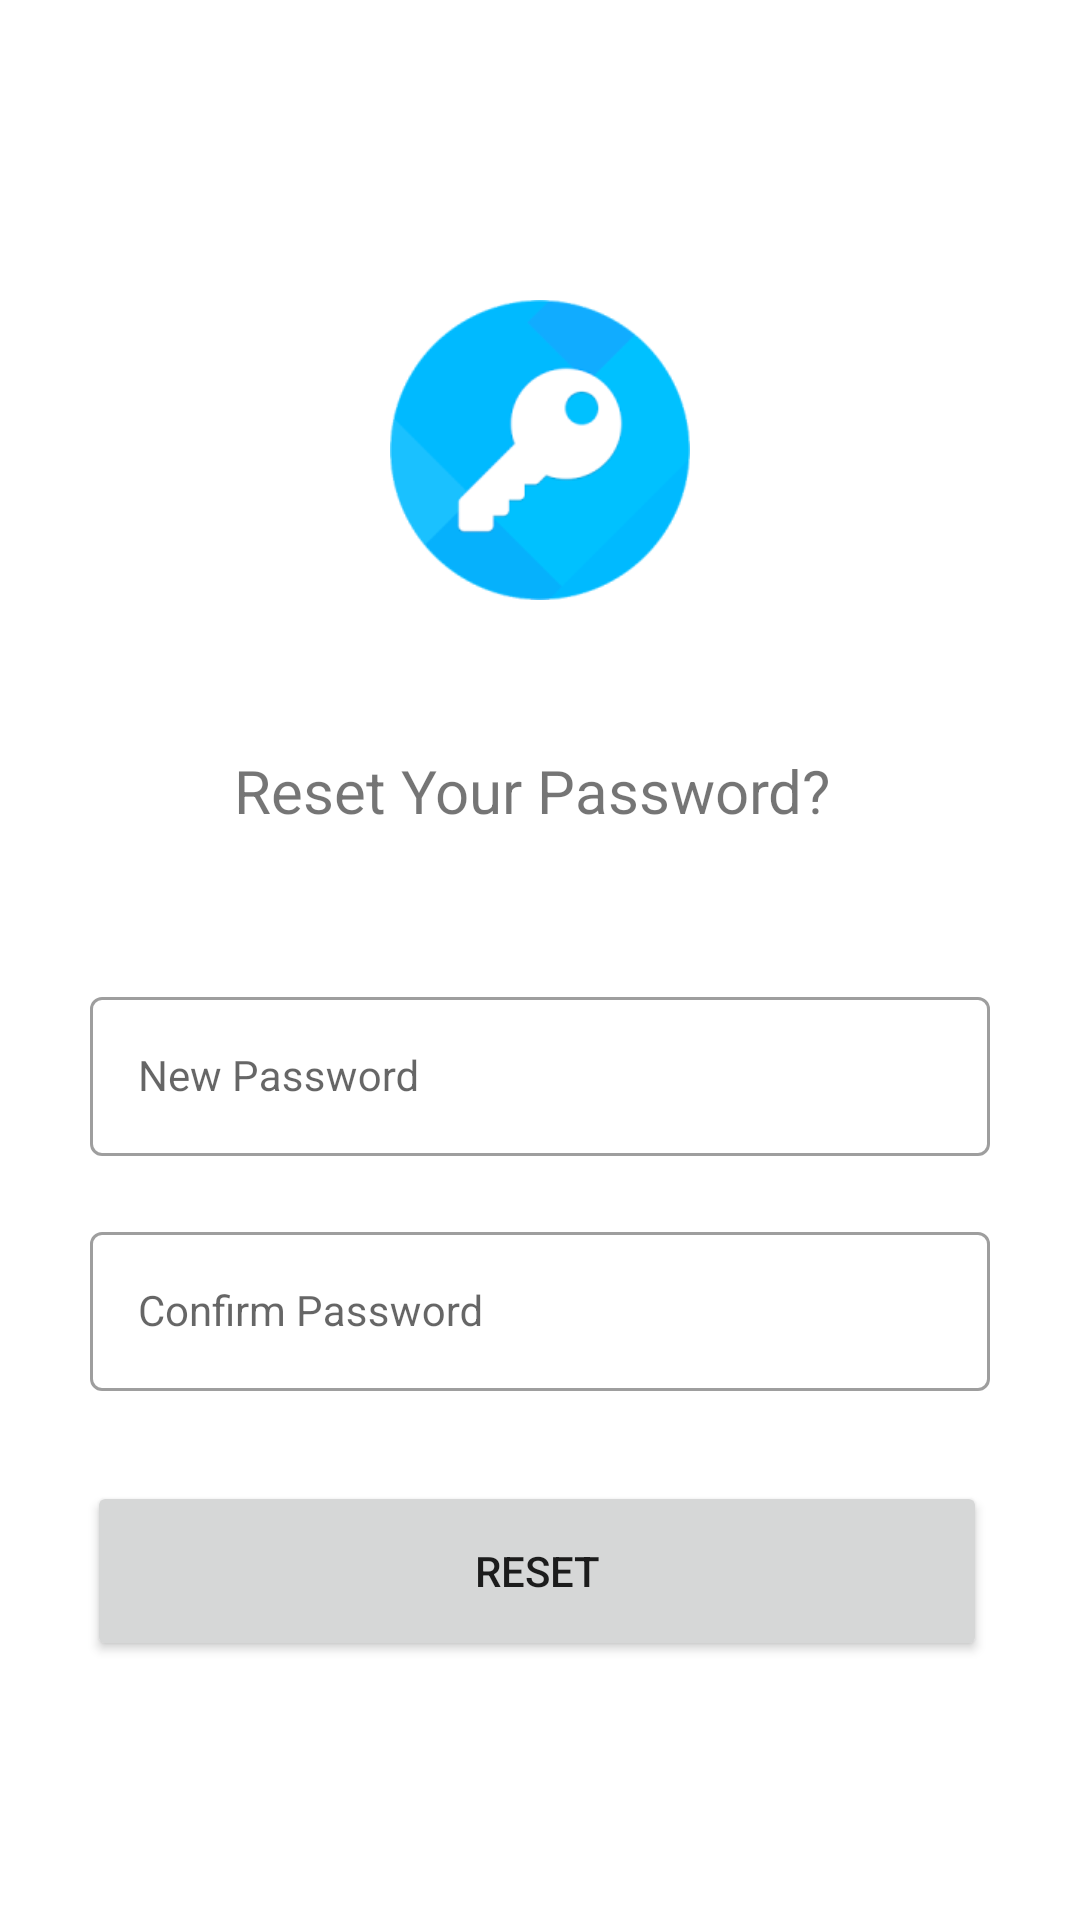

Point at icon controls on the screen. Image size 1080*1920, points as [x,y].
keypassowrd: [540,450]
